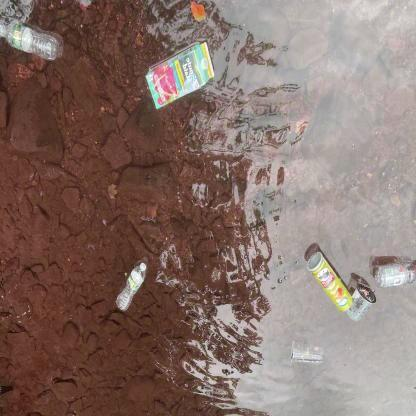Metal: (300, 243, 360, 318)
Plastic: (0, 12, 67, 69), (110, 259, 149, 314), (368, 259, 416, 293), (344, 280, 380, 325)
